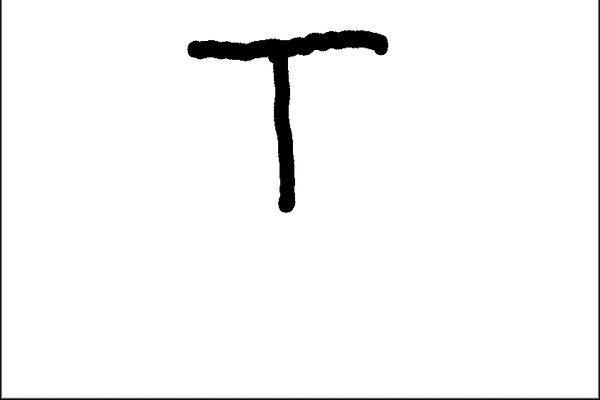T: (181, 28, 393, 214)
